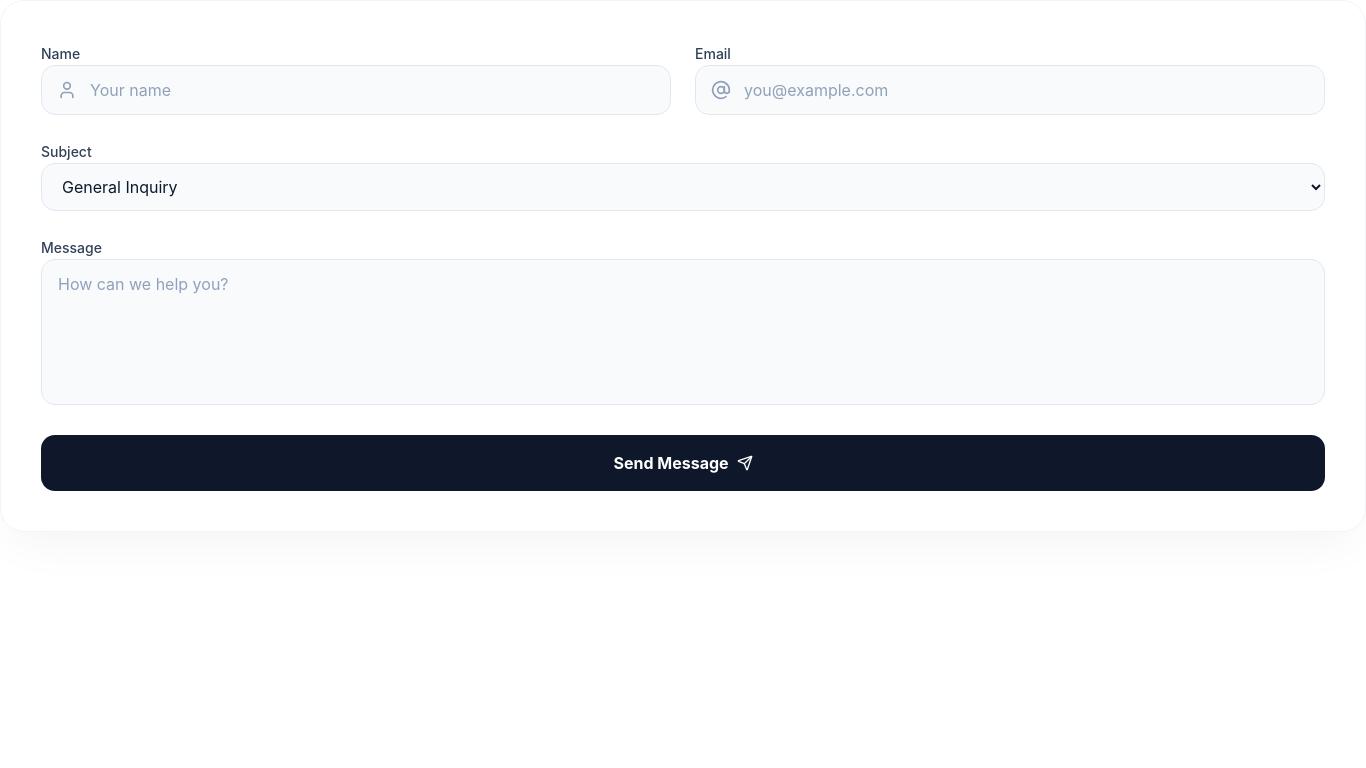
Test case: ContactForm spam guard › silently blocks submission filled in faster than a human could type
Step 1. Type "Ada Lovelace" into the field labelled "Name" → (356, 90), box [41,65,671,115]
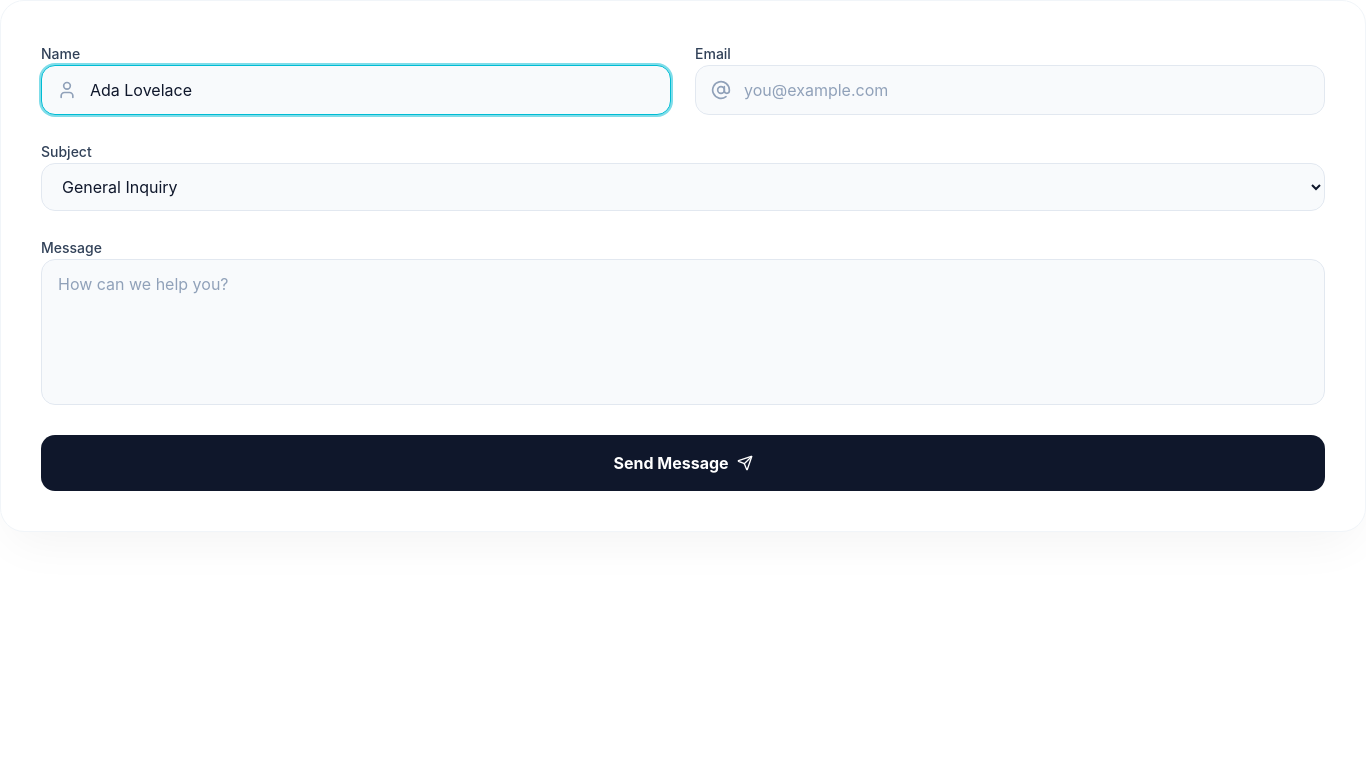
Step 2. Type "ada@example.com" into the field labelled "Email" → (1010, 90), box [695,65,1325,115]
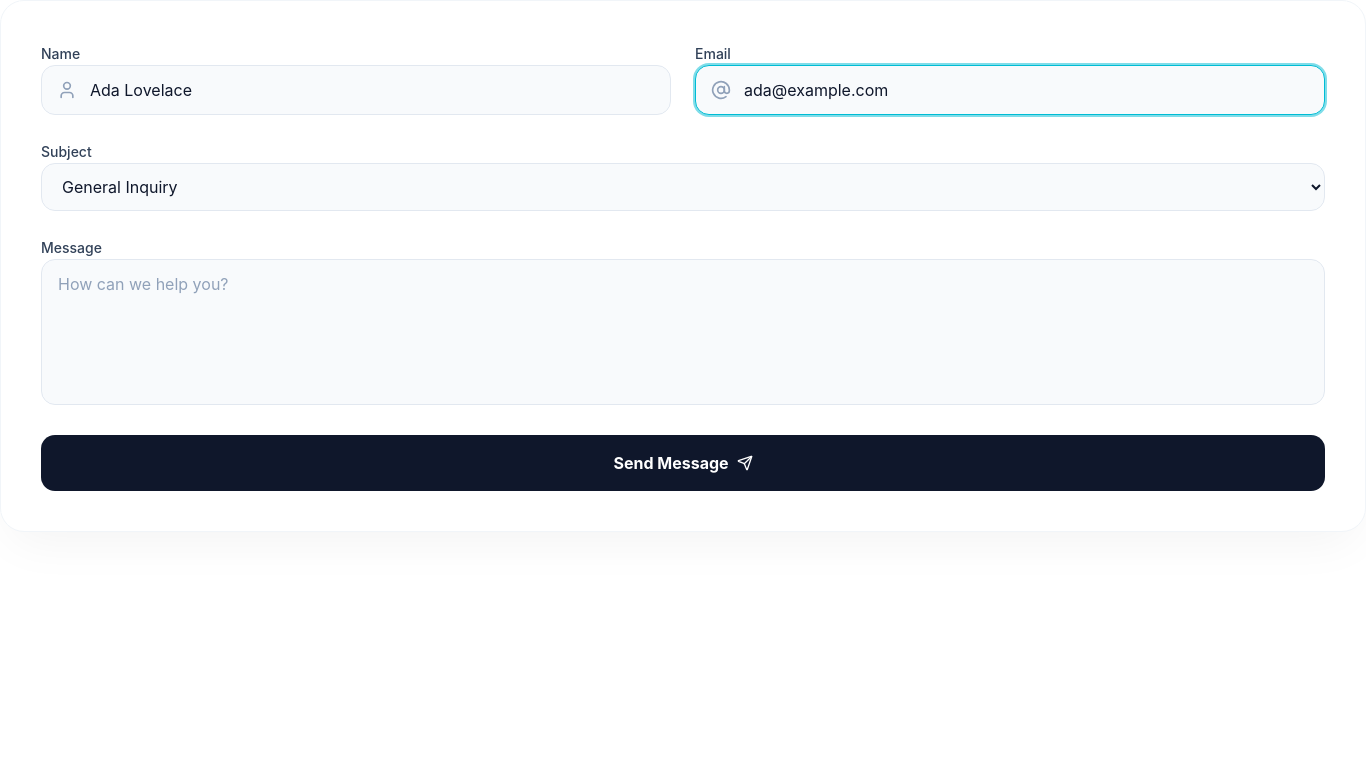
Step 3. Type "Testing the fill-time guard." into the text box labelled "Message" → (683, 332), box [41,259,1325,405]
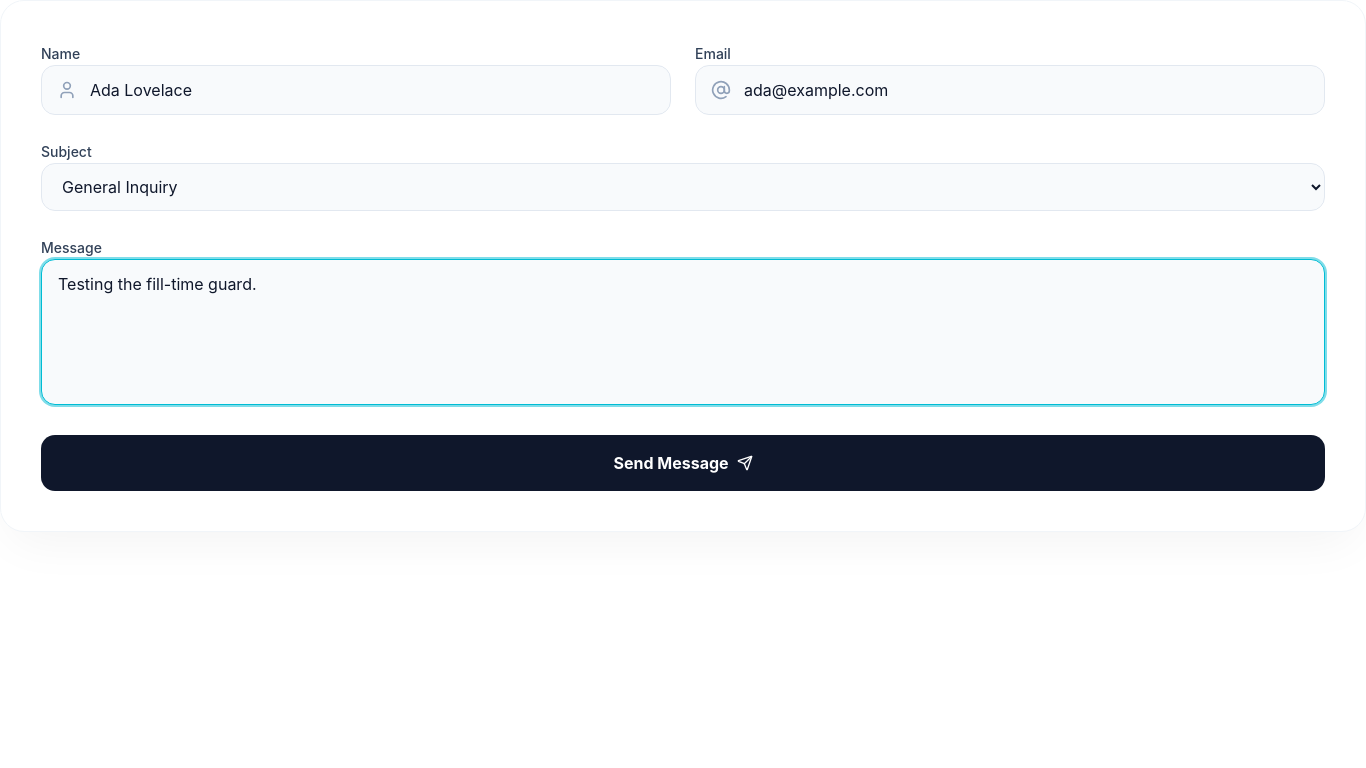
Step 4. Click the button "Send Message" → (683, 463), box [41,435,1325,491]
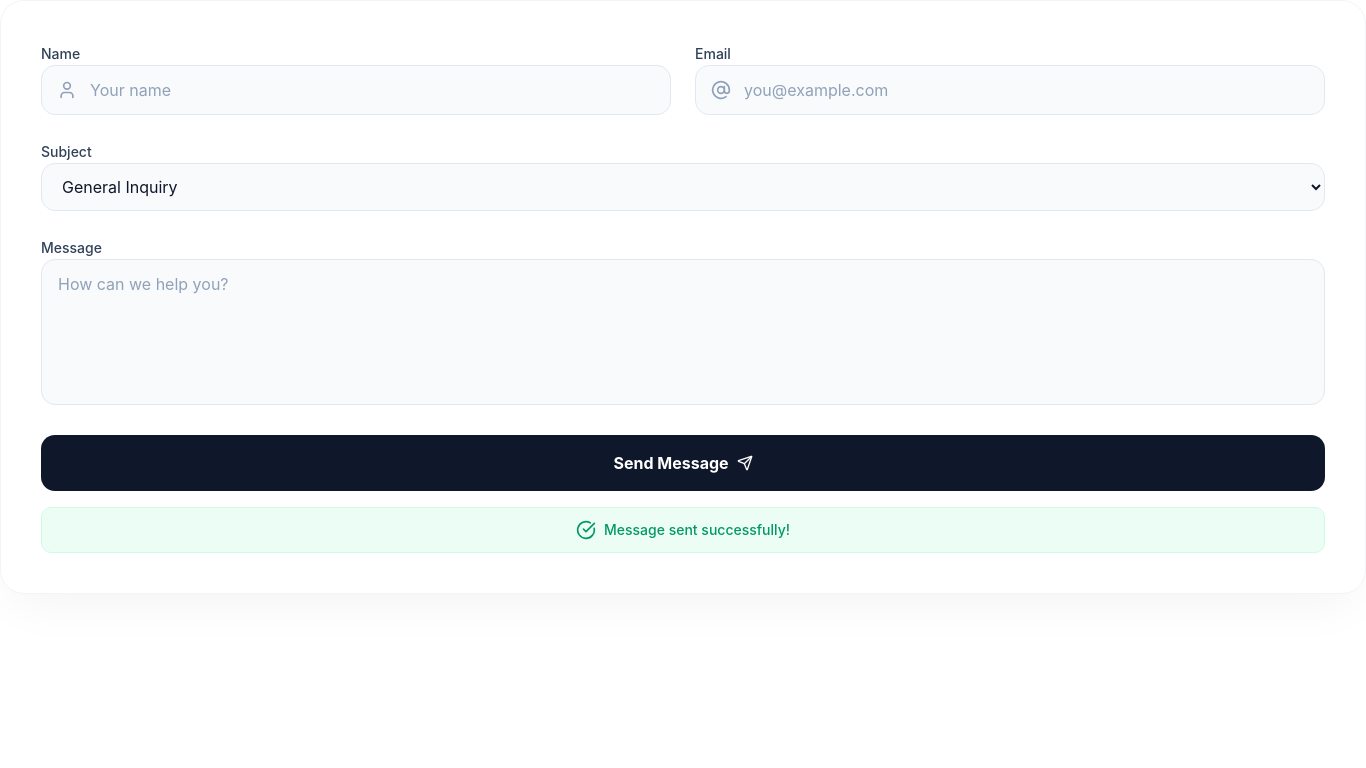
Now the text "Message sent successfully!" is shown, box [604,520,790,540]
